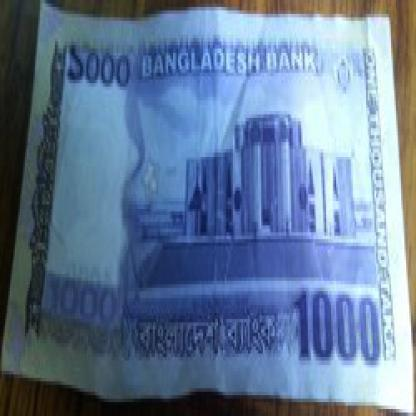One Thousand taka: (286, 292, 386, 375), (45, 270, 120, 326), (65, 38, 133, 94)
